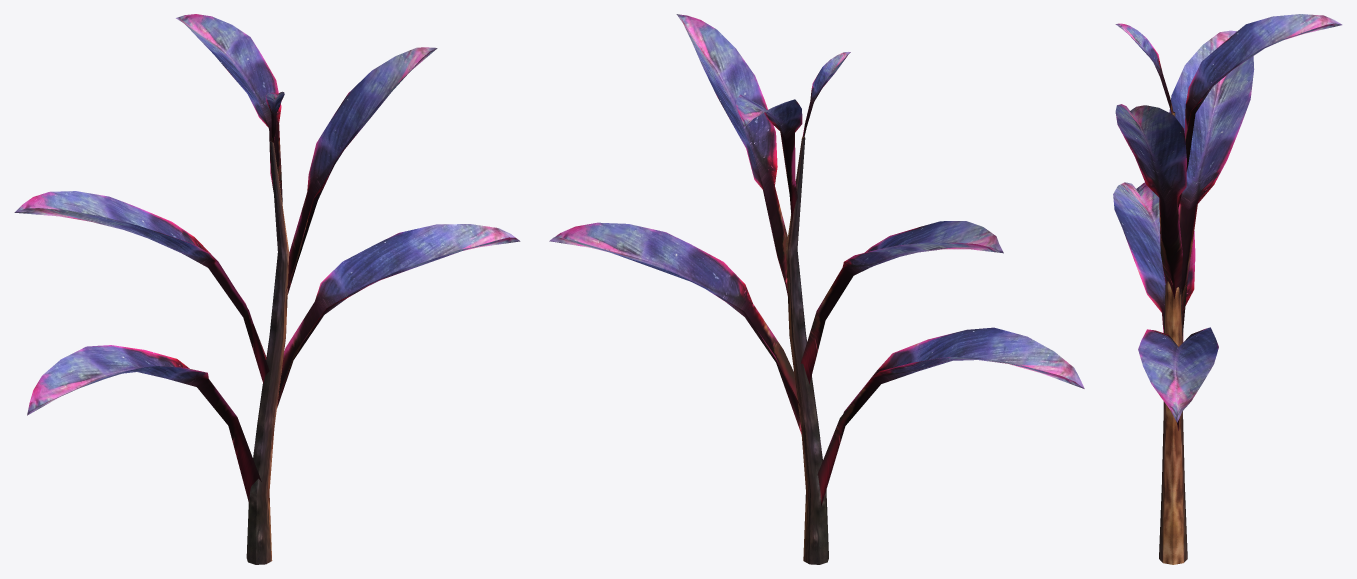
File: OrnamentalPlant.dae
3 views of the same model, side by side, from view 1: azimuth 30°, elevation 25°; view 2: azimuth 150°, elevation 25°; view 3: azimuth 270°, elevation 25° (orthographic). The views are drawn at different scales.
Visible parts, largest first — view 1: Leaf1, Leaf4, Circle, Leaf3, Leaf2, Leaf5; view 2: Leaf1, Leaf4, Leaf2, Circle, Leaf3, Leaf5, Leaf6; view 3: Leaf3, Leaf2, Leaf5, Circle, Leaf1, Leaf4, Leaf6.
Part boxes in pixels (x1,y1,x2,y2): Leaf1: (277, 224, 520, 407); Leaf4: (27, 345, 261, 502); Circle: (246, 141, 289, 564); Leaf3: (14, 191, 269, 383); Leaf2: (285, 47, 437, 294); Leaf5: (176, 14, 282, 203); Leaf1: (549, 222, 801, 434); Leaf4: (817, 327, 1084, 506); Leaf2: (676, 14, 789, 297); Circle: (786, 137, 828, 564); Leaf3: (800, 221, 1003, 384); Leaf5: (736, 94, 802, 221); Leaf6: (802, 52, 850, 138); Leaf3: (1169, 30, 1254, 335); Leaf2: (1115, 104, 1186, 298); Leaf5: (1177, 14, 1342, 208); Circle: (1159, 111, 1187, 564); Leaf1: (1138, 327, 1218, 430); Leaf4: (1113, 182, 1195, 342); Leaf6: (1115, 23, 1173, 112).
Bounding box in the file's own units: 0.8949 × 0.3183 × 0.8221.
1 material, 1 textured.
